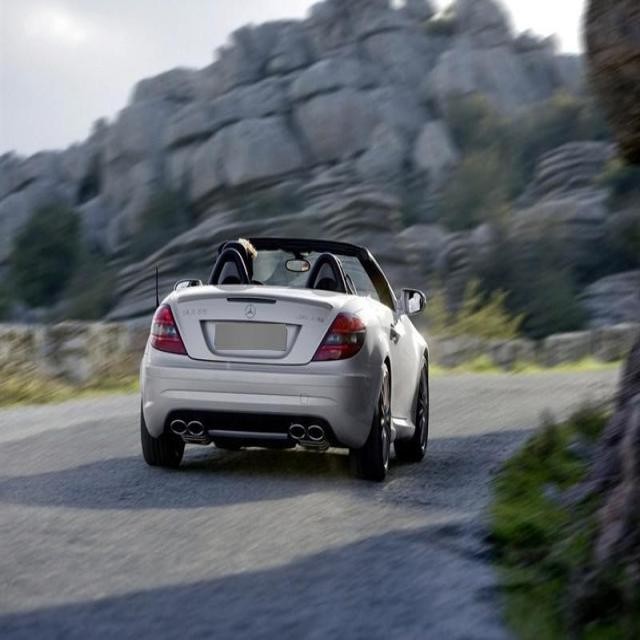back_left_side_light: (148, 297, 190, 359)
back_right_side_light: (310, 311, 364, 364)
front_glass: (222, 240, 384, 300)
front_left_side_mirror: (174, 270, 202, 296)
front_right_side_mirror: (396, 284, 429, 318)
rear_bumper: (139, 352, 375, 443)
wheel: (358, 367, 392, 475), (135, 408, 185, 470), (407, 363, 431, 456)
